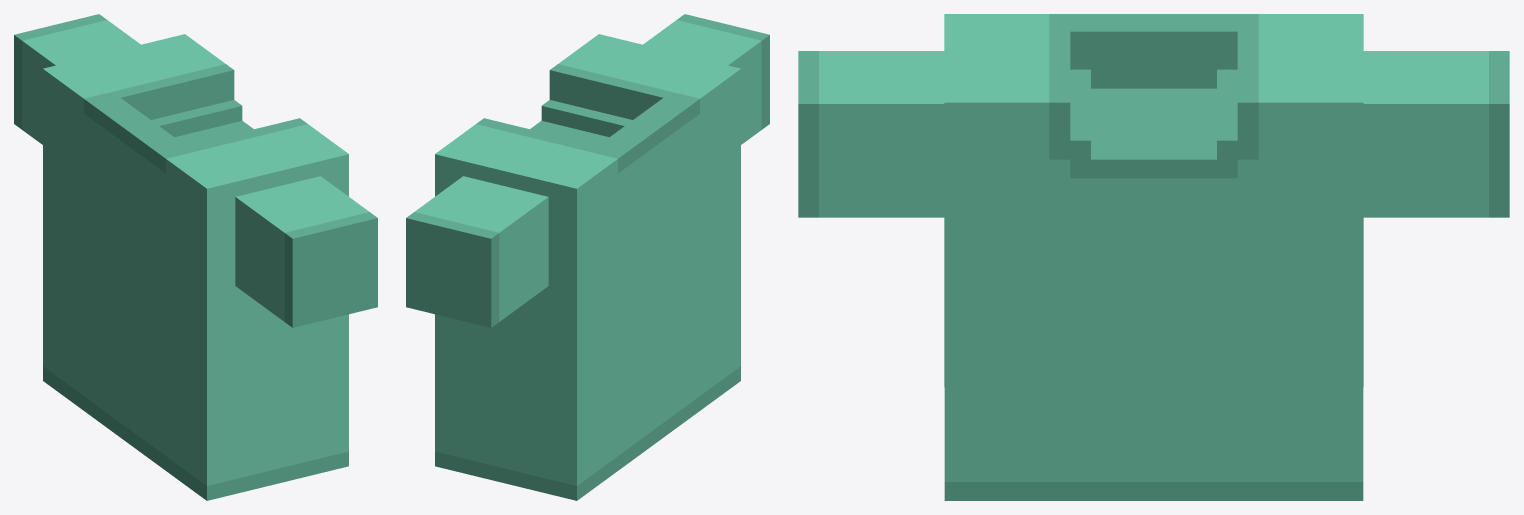
The model's file is av_top_tee.glb.
The picture shows the model from 3 angles, left to right: view 1: azimuth 30°, elevation 25°; view 2: azimuth 150°, elevation 25°; view 3: azimuth 270°, elevation 25°; orthographic projection. The views are drawn at different scales.
Parts seen in each view (by area): view 1: model-3; view 2: model-3; view 3: model-3.
Part boxes in pixels (<box>): model-3: <box>14,14,377,500</box>; model-3: <box>406,14,769,500</box>; model-3: <box>798,14,1509,500</box>.
Bounding box in the file's own units: 0.1001 × 0.2101 × 0.34.
1 material, 1 textured.
